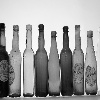beer: (36, 23, 50, 100)
